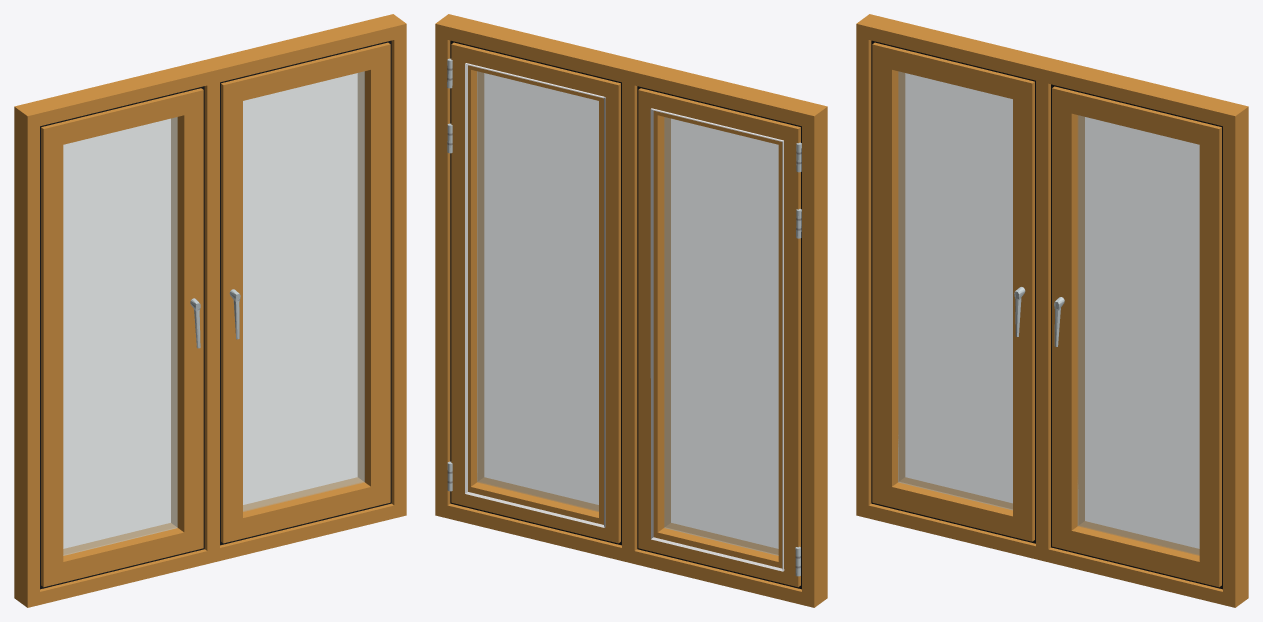
File: window.glb
3 renders of one model, left to right at view 1: azimuth 30°, elevation 25°; view 2: azimuth 150°, elevation 25°; view 3: azimuth 330°, elevation 25°, orthographic.
Visible parts, largest first — view 1: group245708010, group726169076, group1194249154, group90051167, group271047292, group1120995065, group2039086624, group1600475773, group477566908, group1373645603, group1466955722, group1378708829 (+7 smaller); view 2: group245708010, group726169076, group90051167, group1194249154, group271047292, group2039086624, group1120995065, group1600475773, group1373645603, group477566908, group1466955722, group1378708829 (+10 smaller); view 3: group245708010, group726169076, group1120995065, group1600475773, group477566908, group1194249154, group2039086624, group90051167, group271047292, group1373645603, group1466955722, group1378708829 (+6 smaller).
Boxes of the visible parts, <box> form: group245708010: <box>243,71,364,511</box>; group726169076: <box>63,117,177,555</box>; group1194249154: <box>358,42,390,507</box>; group90051167: <box>171,88,203,535</box>; group271047292: <box>14,106,39,607</box>; group1120995065: <box>41,122,63,587</box>; group2039086624: <box>16,14,406,128</box>; group1600475773: <box>221,78,242,526</box>; group477566908: <box>391,25,406,505</box>; group1373645603: <box>204,82,219,556</box>; group1466955722: <box>40,502,406,604</box>; group1378708829: <box>221,477,370,543</box>; group245708010: <box>477,71,598,511</box>; group726169076: <box>664,117,778,555</box>; group90051167: <box>638,88,670,532</box>; group1194249154: <box>451,42,483,502</box>; group271047292: <box>802,103,827,607</box>; group2039086624: <box>435,14,825,126</box>; group1120995065: <box>778,122,800,587</box>; group1600475773: <box>599,78,620,526</box>; group1373645603: <box>622,75,637,556</box>; group477566908: <box>435,37,450,518</box>; group1466955722: <box>447,503,801,604</box>; group1378708829: <box>453,477,620,543</box>; group245708010: <box>1077,115,1199,555</box>; group726169076: <box>898,71,1012,510</box>; group1120995065: <box>872,42,904,507</box>; group1600475773: <box>1052,86,1084,534</box>; group477566908: <box>1223,108,1248,607</box>; group1194249154: <box>1199,122,1221,587</box>; group2039086624: <box>858,14,1248,126</box>; group90051167: <box>1013,77,1034,524</box>; group271047292: <box>856,14,871,518</box>; group1373645603: <box>1036,80,1050,554</box>; group1466955722: <box>868,503,1235,607</box>; group1378708829: <box>1052,521,1199,582</box>.
Bounding box in the file's own units: 2.13 × 2.64 × 0.2067.
